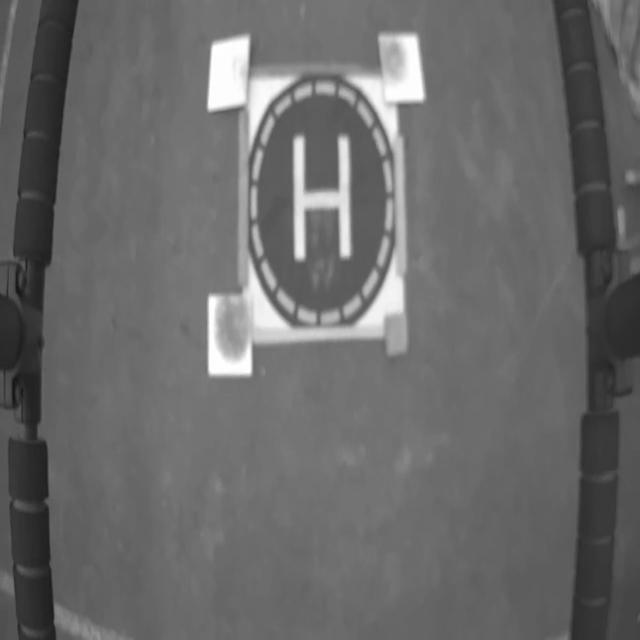Helipad: (292, 137, 353, 262)
